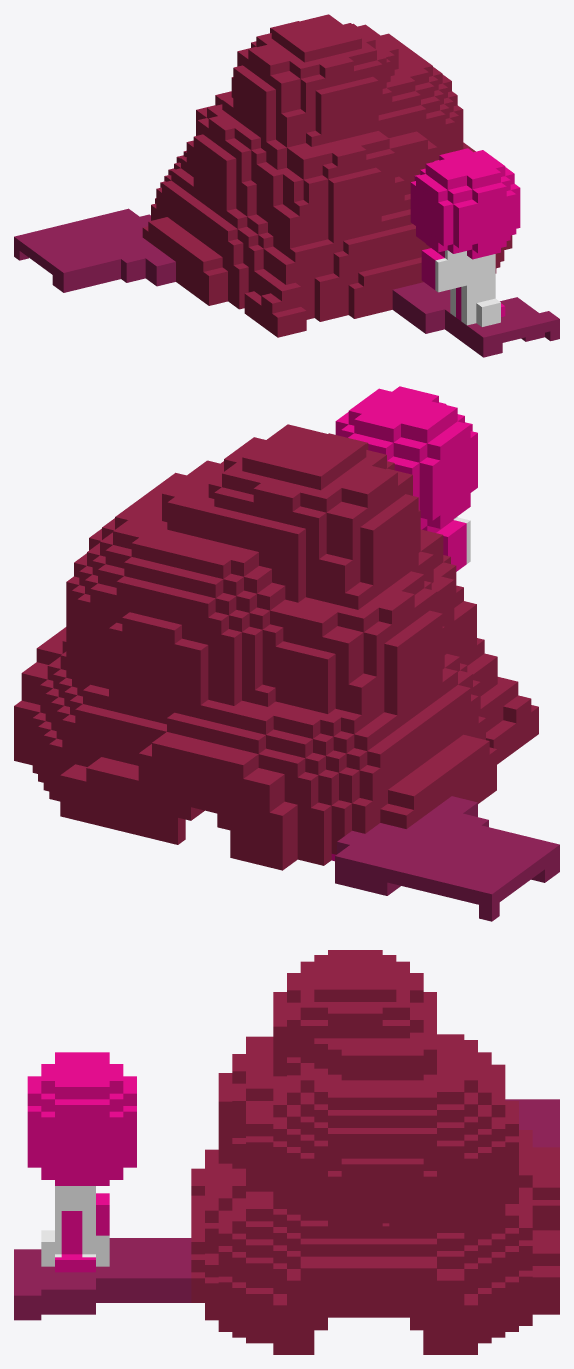
Rendered from ZonaMundoPelea-5-ZonaMontaña1.obj.
3 renders of one model, top to bottom at view 1: azimuth 30°, elevation 25°; view 2: azimuth 150°, elevation 25°; view 3: azimuth 270°, elevation 25°, orthographic. The views are drawn at different scales.
Visible parts, largest first — view 1: ZonaMontaña1; view 2: ZonaMontaña1; view 3: ZonaMontaña1.
Part boxes in pixels (box(x1,y1,x2,y2)): ZonaMontaña1: box(14, 14, 559, 357); ZonaMontaña1: box(14, 386, 559, 921); ZonaMontaña1: box(14, 950, 559, 1354).
Size of the model in its own units: 8 by 4.6 by 8.
1 material, 1 textured.
